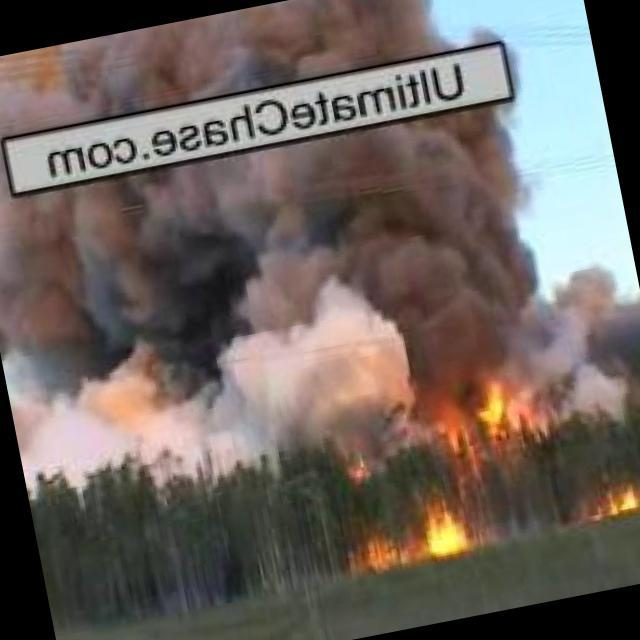Fire: (473, 367, 520, 433), (420, 496, 468, 554), (363, 533, 410, 578), (598, 477, 640, 518)
